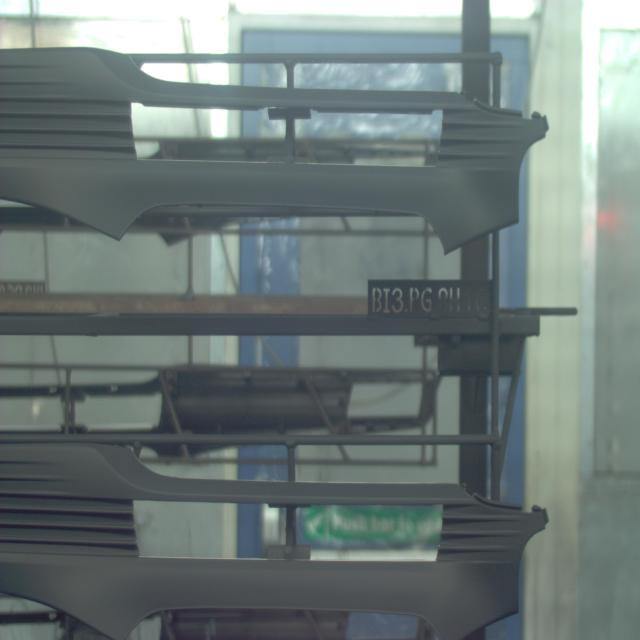Primered: (2, 38, 553, 260), (2, 431, 555, 640)
